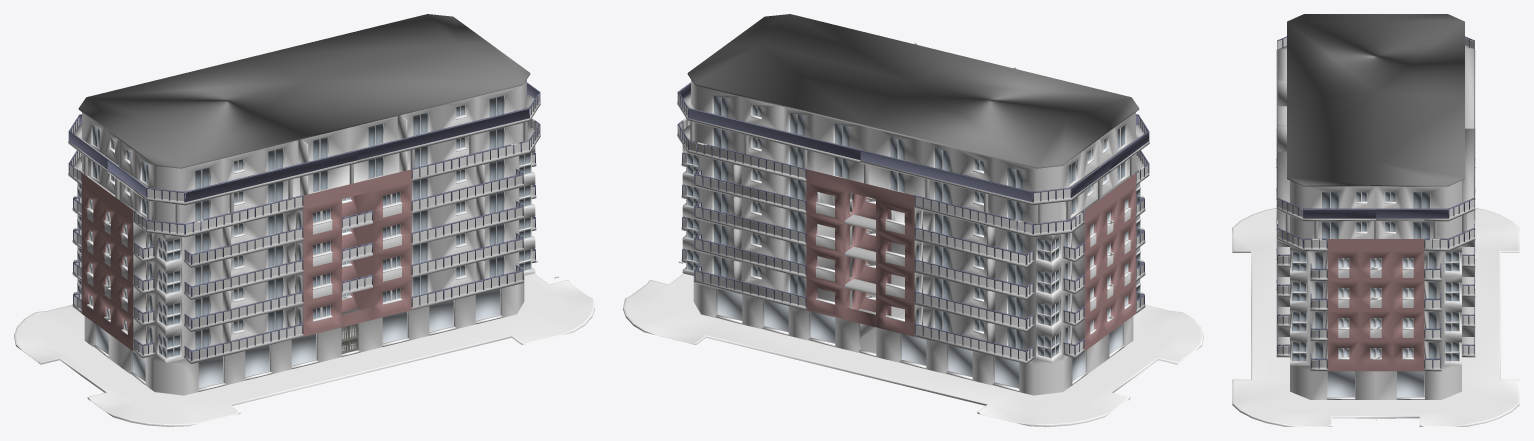
File: building1.glb
3 views of the same model, side by side, from view 1: azimuth 30°, elevation 25°; view 2: azimuth 150°, elevation 25°; view 3: azimuth 270°, elevation 25° (orthographic). The views are drawn at different scales.
Visible parts, largest first — view 1: roof_Cube.001, pavement_Plane.025, paredes.004_Plane.019, paredes12.013_Plane.088, paredes9_Plane.105, paredes6.001_Plane.107, paredes12.009_Plane.009, paredes2_Plane.073, paredes13_Plane.072, paredes.006_Plane.022, paredes8_Plane.077, paredes5_Plane.106 (+28 smaller); view 2: roof_Cube.001, pavement_Plane.025, paredes12.012_Plane.089, paredes.004_Plane.019, pared_rojaa8_Plane.071, paredes12.014_Plane.087, paredes11_Plane.104, paredes7_Plane.108, paredes4_Plane.111, paredes15_Plane.102, paredes.006_Plane.022, pared_rojaa5_Plane.100 (+23 smaller); view 3: roof_Cube.001, pavement_Plane.025, pared_rojaa4_Plane.004, paredes.004_Plane.019, paredes12.009_Plane.009, paredes12.014_Plane.087, pared_rojaa2_Plane.074, pared_rojaa_Plane.002, pared_rojaa3_Plane.003, paredes10_Plane.076, paredes8_Plane.077, paredes5_Plane.106 (+21 smaller).
Boxes of the visible parts, x1=… form: roof_Cube.001: x1=78, y1=14, x2=530, y2=168; pavement_Plane.025: x1=14, y1=273, x2=594, y2=426; paredes.004_Plane.019: x1=84, y1=276, x2=524, y2=395; paredes12.013_Plane.088: x1=119, y1=128, x2=348, y2=225; paredes9_Plane.105: x1=133, y1=240, x2=357, y2=299; paredes6.001_Plane.107: x1=133, y1=273, x2=357, y2=331; paredes12.009_Plane.009: x1=349, y1=79, x2=526, y2=184; paredes2_Plane.073: x1=133, y1=305, x2=303, y2=363; paredes13_Plane.072: x1=133, y1=208, x2=357, y2=267; paredes.006_Plane.022: x1=95, y1=288, x2=500, y2=388; paredes8_Plane.077: x1=357, y1=177, x2=536, y2=258; paredes5_Plane.106: x1=357, y1=209, x2=536, y2=291; roof_Cube.001: x1=687, y1=14, x2=1139, y2=168; pavement_Plane.025: x1=623, y1=273, x2=1203, y2=426; paredes12.012_Plane.089: x1=869, y1=128, x2=1098, y2=225; paredes.004_Plane.019: x1=693, y1=226, x2=1133, y2=395; pared_rojaa8_Plane.071: x1=806, y1=169, x2=1136, y2=254; paredes12.014_Plane.087: x1=691, y1=79, x2=868, y2=184; paredes11_Plane.104: x1=860, y1=240, x2=1084, y2=299; paredes7_Plane.108: x1=860, y1=273, x2=1084, y2=331; paredes4_Plane.111: x1=914, y1=305, x2=1084, y2=363; paredes15_Plane.102: x1=860, y1=208, x2=1084, y2=267; paredes.006_Plane.022: x1=717, y1=288, x2=1122, y2=388; pared_rojaa5_Plane.100: x1=806, y1=276, x2=1136, y2=350; roof_Cube.001: x1=1287, y1=14, x2=1464, y2=186; pavement_Plane.025: x1=1232, y1=208, x2=1519, y2=426; pared_rojaa4_Plane.004: x1=1327, y1=239, x2=1424, y2=281; paredes.004_Plane.019: x1=1290, y1=365, x2=1461, y2=399; paredes12.009_Plane.009: x1=1290, y1=180, x2=1375, y2=240; paredes12.014_Plane.087: x1=1376, y1=180, x2=1461, y2=240; pared_rojaa2_Plane.074: x1=1327, y1=311, x2=1424, y2=341; pared_rojaa_Plane.002: x1=1327, y1=341, x2=1424, y2=371; pared_rojaa3_Plane.003: x1=1327, y1=281, x2=1424, y2=311; paredes10_Plane.076: x1=1424, y1=267, x2=1475, y2=311; paredes8_Plane.077: x1=1276, y1=267, x2=1327, y2=311; paredes5_Plane.106: x1=1276, y1=297, x2=1327, y2=341.
Bounding box in the file's own units: 54.85 × 26.3 × 30.36.
